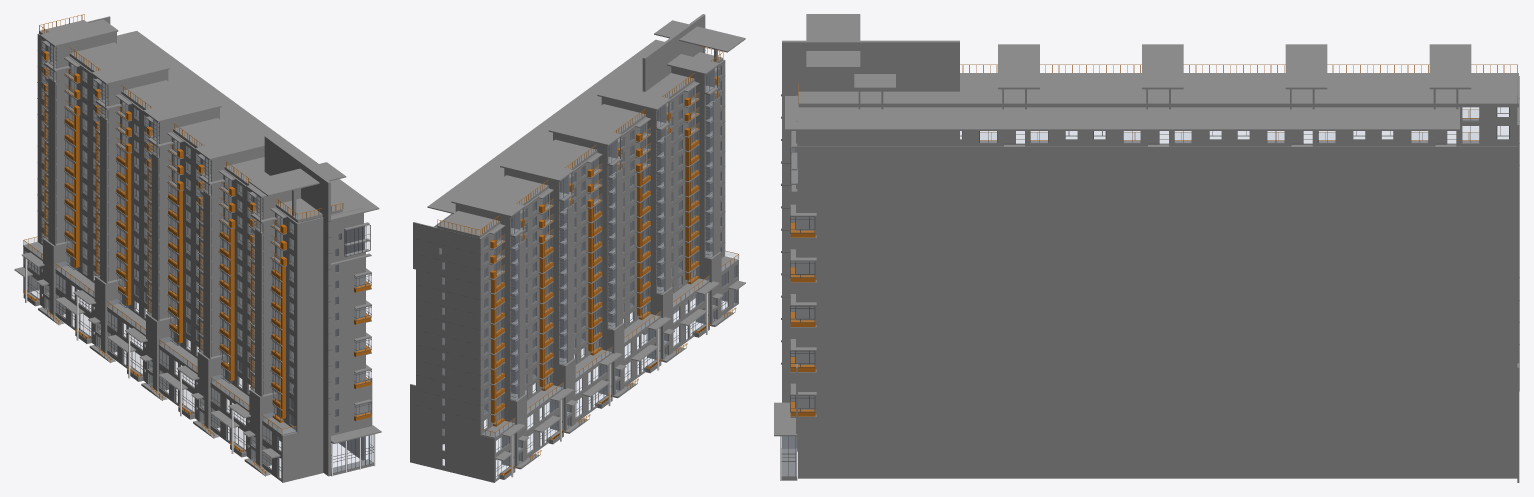
Rendered from House_1.FBX.
The picture shows the model from 3 angles, left to right: view 1: azimuth 30°, elevation 25°; view 2: azimuth 150°, elevation 25°; view 3: azimuth 270°, elevation 25°; orthographic projection. The views are drawn at different scales.
Visible parts, largest first — view 1: Rectangle888, Line411, Rectangle51, Rectangle62, Rectangle53, Rectangle54, Line08, Line366, Rectangle61, Rectangle01; view 2: Rectangle888, Line411, Rectangle51, Rectangle62, Rectangle53, Line08, Rectangle54, Line366, Rectangle01, Rectangle61; view 3: Rectangle888, Line411, Rectangle51, Rectangle62, Line08, Rectangle53.
Part boxes in pixels (box(x1,y1,x2,y2)): Rectangle888: box(23, 16, 372, 482); Line411: box(14, 20, 381, 476); Rectangle51: box(25, 41, 372, 478); Rectangle62: box(25, 40, 373, 478); Rectangle53: box(43, 51, 371, 422); Rectangle54: box(44, 53, 282, 417); Line08: box(23, 14, 343, 475); Line366: box(24, 55, 295, 434); Rectangle61: box(25, 258, 375, 476); Rectangle01: box(37, 35, 331, 414); Rectangle888: box(410, 54, 738, 482); Line411: box(427, 14, 745, 469); Rectangle51: box(439, 66, 736, 478); Rectangle62: box(439, 66, 736, 479); Rectangle53: box(490, 76, 719, 426); Line08: box(437, 46, 738, 475); Rectangle54: box(494, 78, 719, 421); Line366: box(482, 81, 738, 436); Rectangle01: box(416, 50, 725, 420); Rectangle61: box(511, 293, 707, 477); Rectangle888: box(796, 44, 1519, 482); Line411: box(774, 14, 1518, 480); Rectangle51: box(782, 107, 1508, 476); Rectangle62: box(781, 107, 1509, 476); Line08: box(798, 64, 1517, 140); Rectangle53: box(790, 222, 815, 416).
Bounding box in the file's own units: 1955 × 5305 × 8766.
